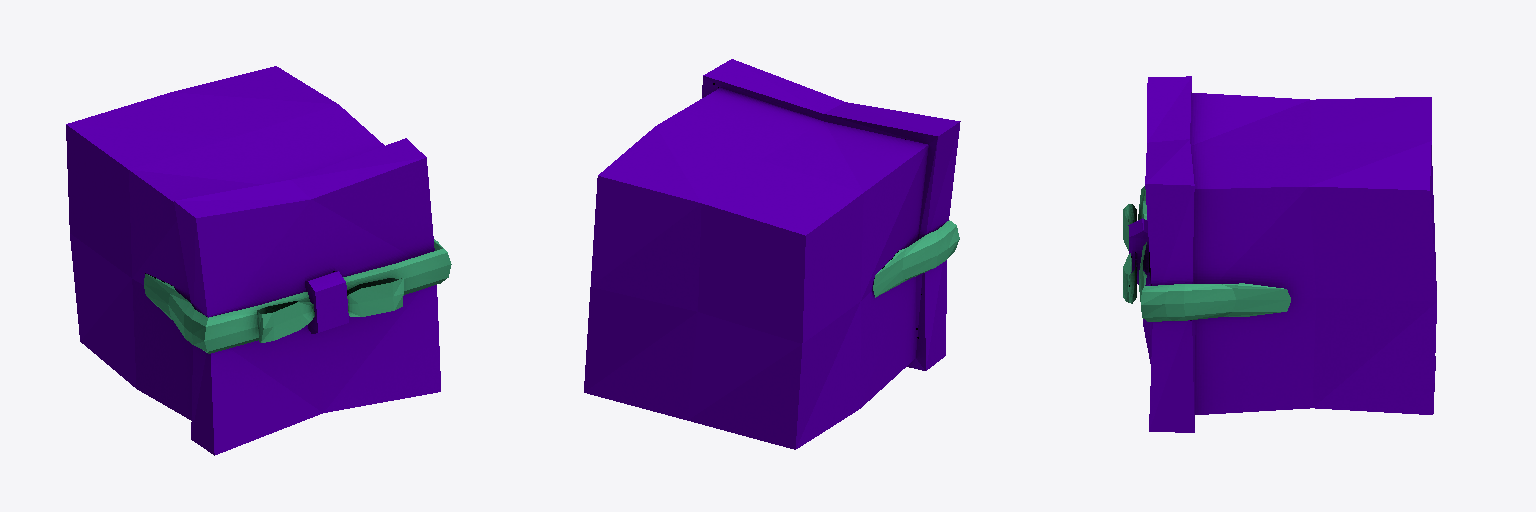
The picture shows the model from 3 angles: view 1: azimuth 30°, elevation 25°; view 2: azimuth 150°, elevation 25°; view 3: azimuth 270°, elevation 25°; orthographic projection.
Visible parts, largest first — view 1: Regalo001; view 2: Regalo001; view 3: Regalo001.
Part boxes in pixels (bbox=[...]): Regalo001: bbox=[66, 66, 451, 455]; Regalo001: bbox=[584, 59, 960, 449]; Regalo001: bbox=[1123, 76, 1436, 432].
Bounding box in the file's own units: 39.21 × 36.45 × 42.26.
1 materials, 1 textured.